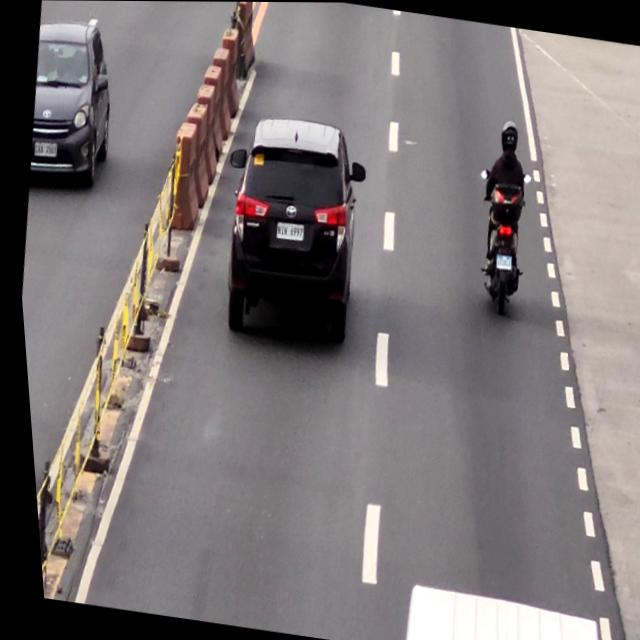Car: (210, 114, 370, 342)
License-Plate: (269, 220, 305, 245), (492, 254, 511, 272)
Motorcycle: (461, 120, 538, 314)
